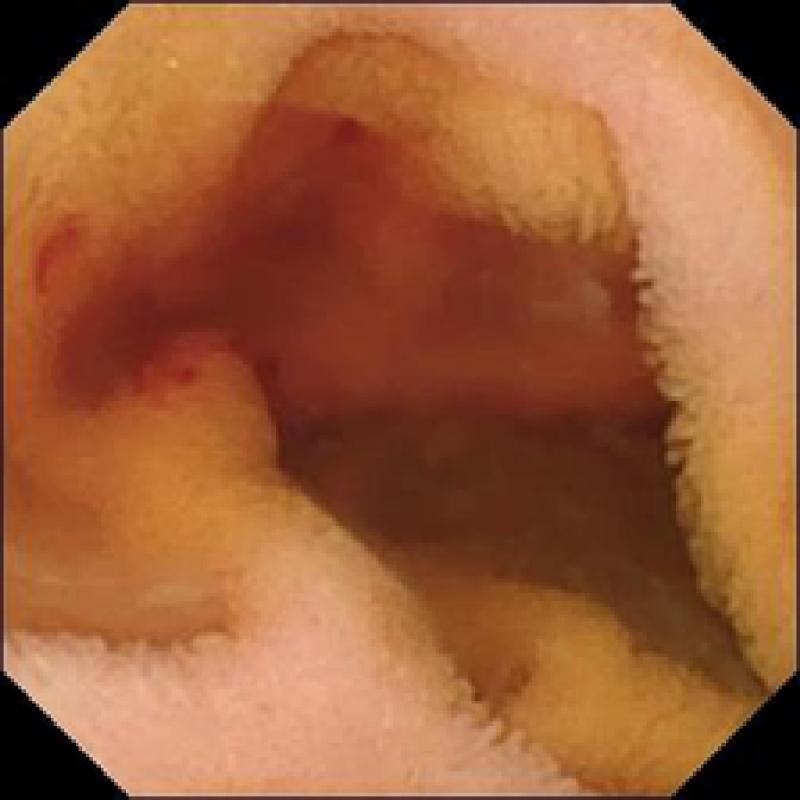bleeding: (21, 104, 654, 428)
